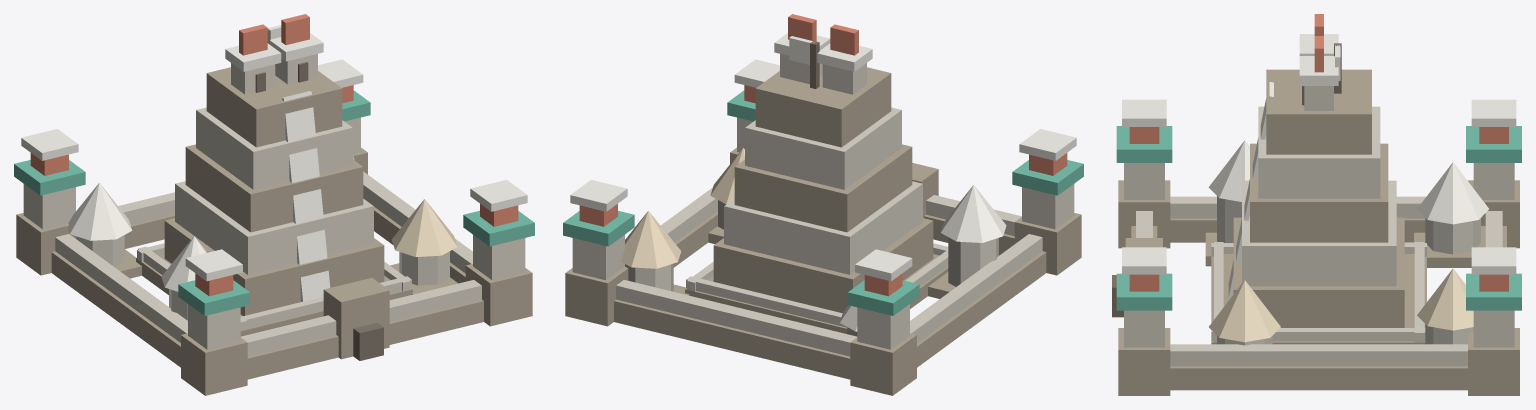
Rendered from capital.glb.
The picture shows the model from 3 angles, left to right: view 1: azimuth 30°, elevation 25°; view 2: azimuth 150°, elevation 25°; view 3: azimuth 270°, elevation 25°; orthographic projection. The views are drawn at different scales.
Visible parts, largest first — view 1: mesoamerican_capital; view 2: mesoamerican_capital; view 3: mesoamerican_capital.
Boxes of the visible parts, box(x1,y1,x2,y2) form: mesoamerican_capital: box(14, 14, 534, 395); mesoamerican_capital: box(563, 14, 1083, 395); mesoamerican_capital: box(1112, 14, 1521, 395).
Bounding box in the file's own units: 0.9891 × 0.7532 × 1.
